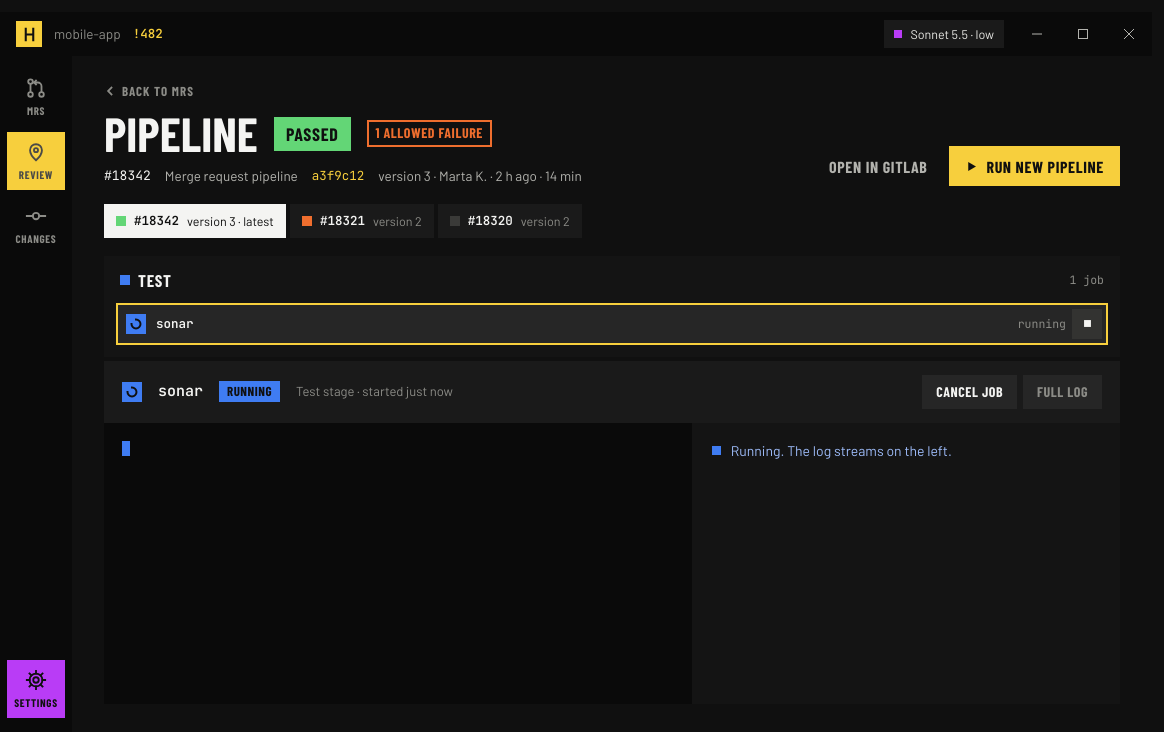
Test case: S-08 refused row actions (F-20.2) › F-20.2 a refused Cancel says the cancel failed, then GitLab’s reason
Click the button named "Cancel sonar".
click(1087, 324)  # box [1072,309,1102,339]
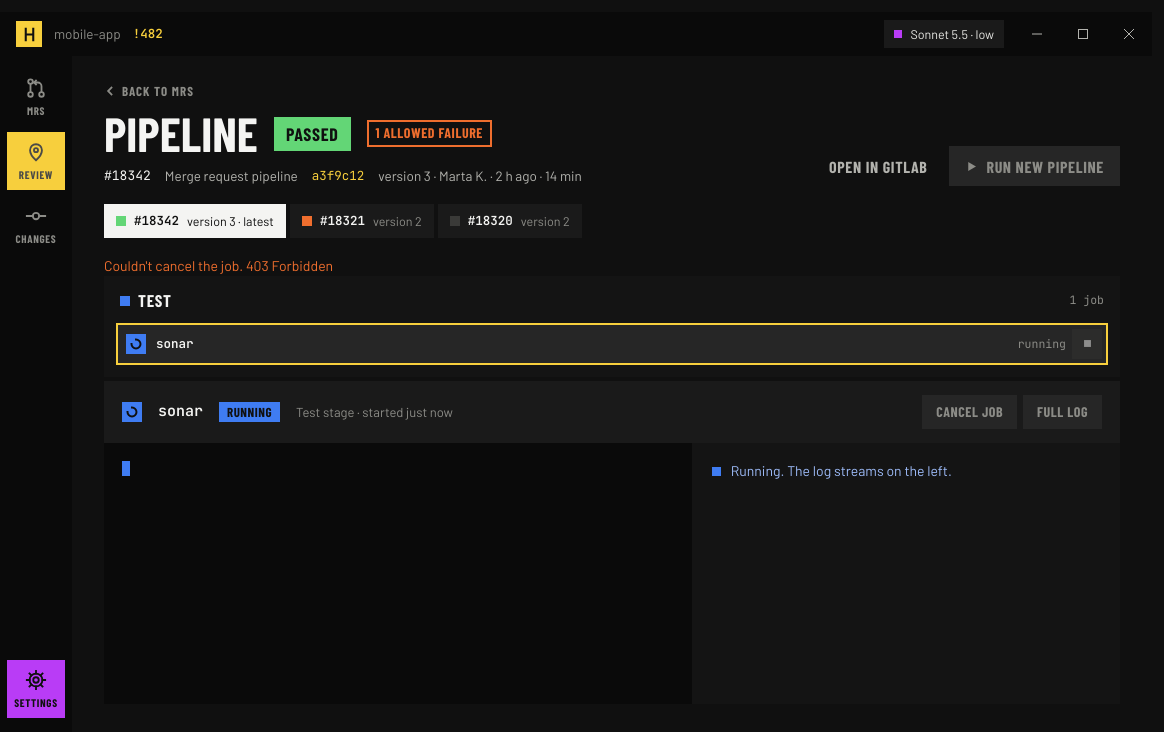
Now the message "Couldn't cancel the job. 403 Forbidden" is shown, box [104,257,333,274]
